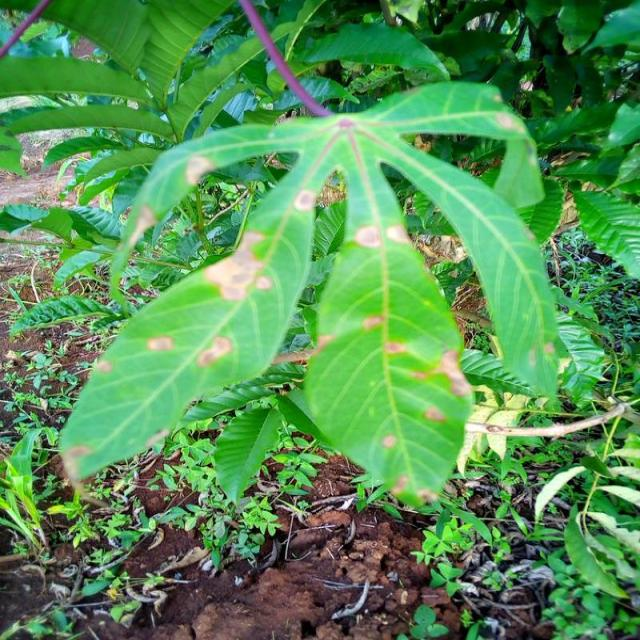cassava leaf: (58, 76, 566, 507), (57, 190, 315, 485)
